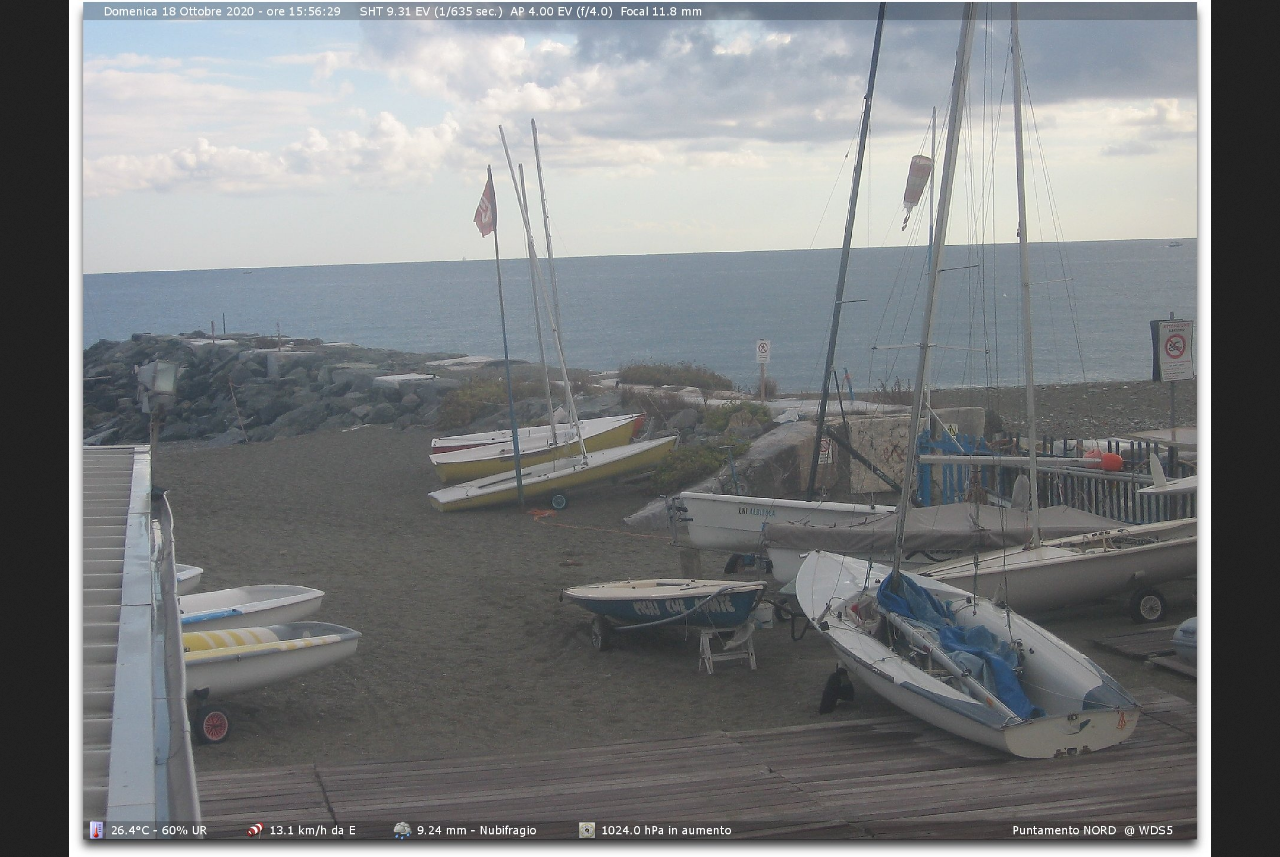maybe: (471, 162, 508, 248)
